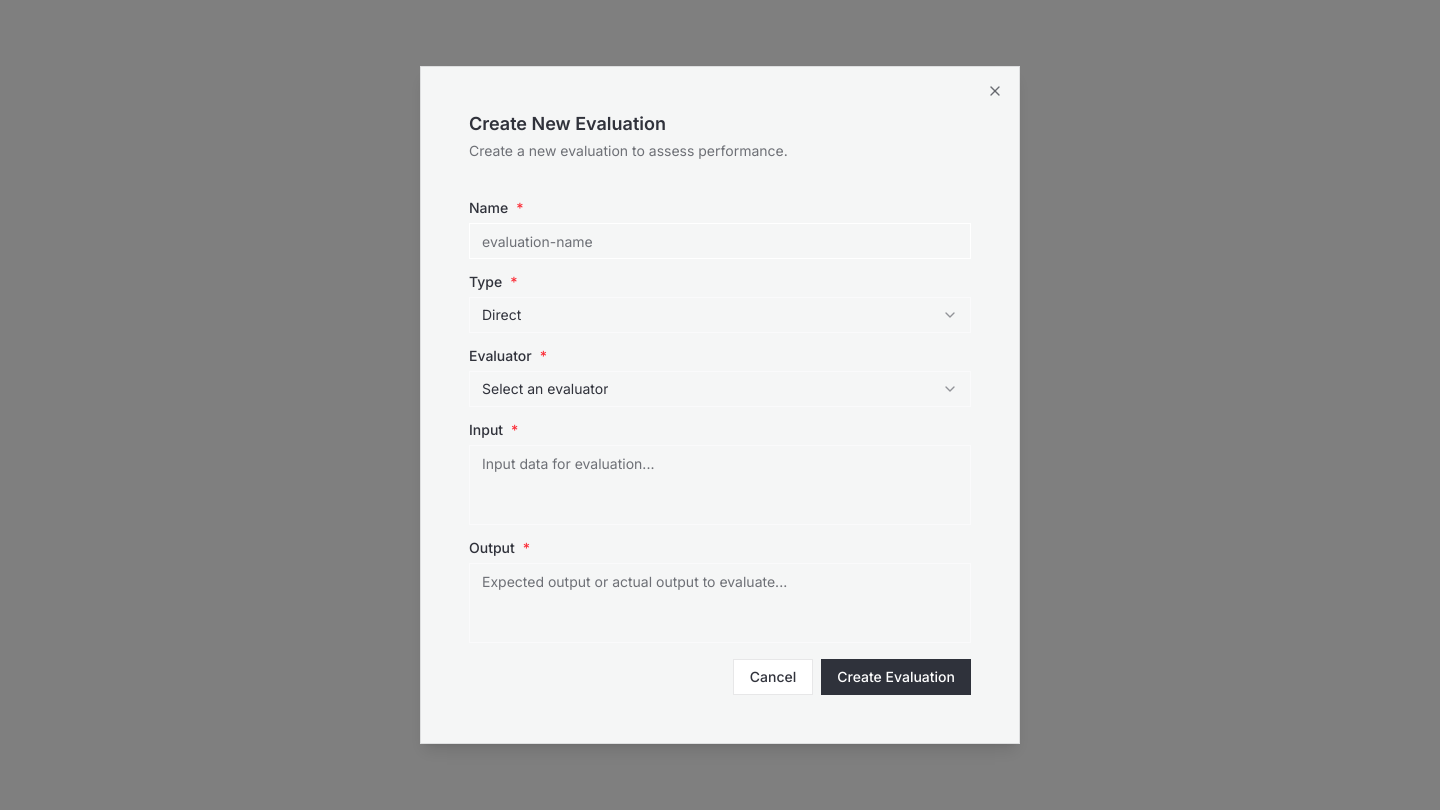
Scenario: EvaluationEditor › validation › should show error when evaluator is not selected
Type "valid-name" into the field with placeholder "evaluation-name" at (720, 241), box [469,223,971,259]
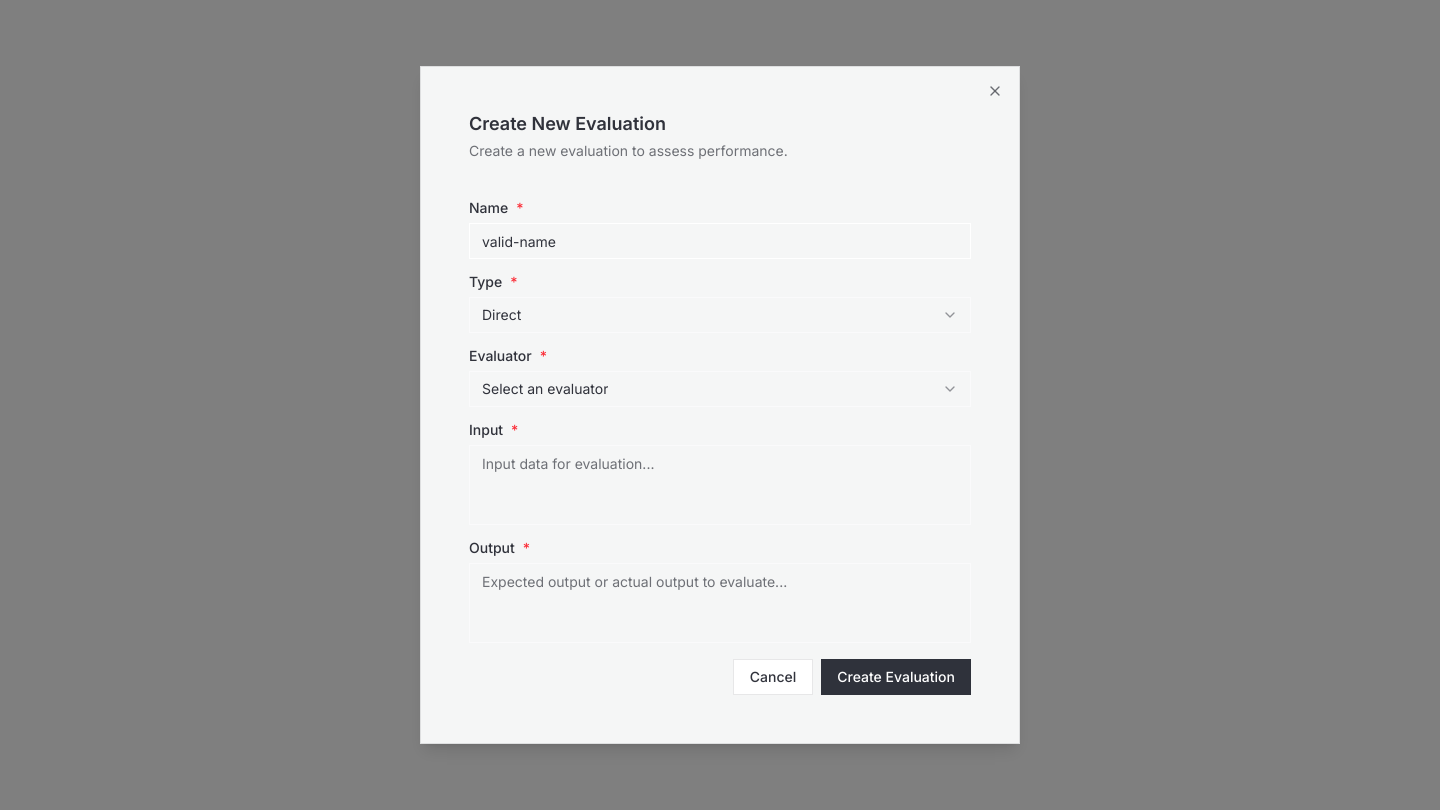
Click the button "Create Evaluation" at (896, 677), box [821,659,971,695]
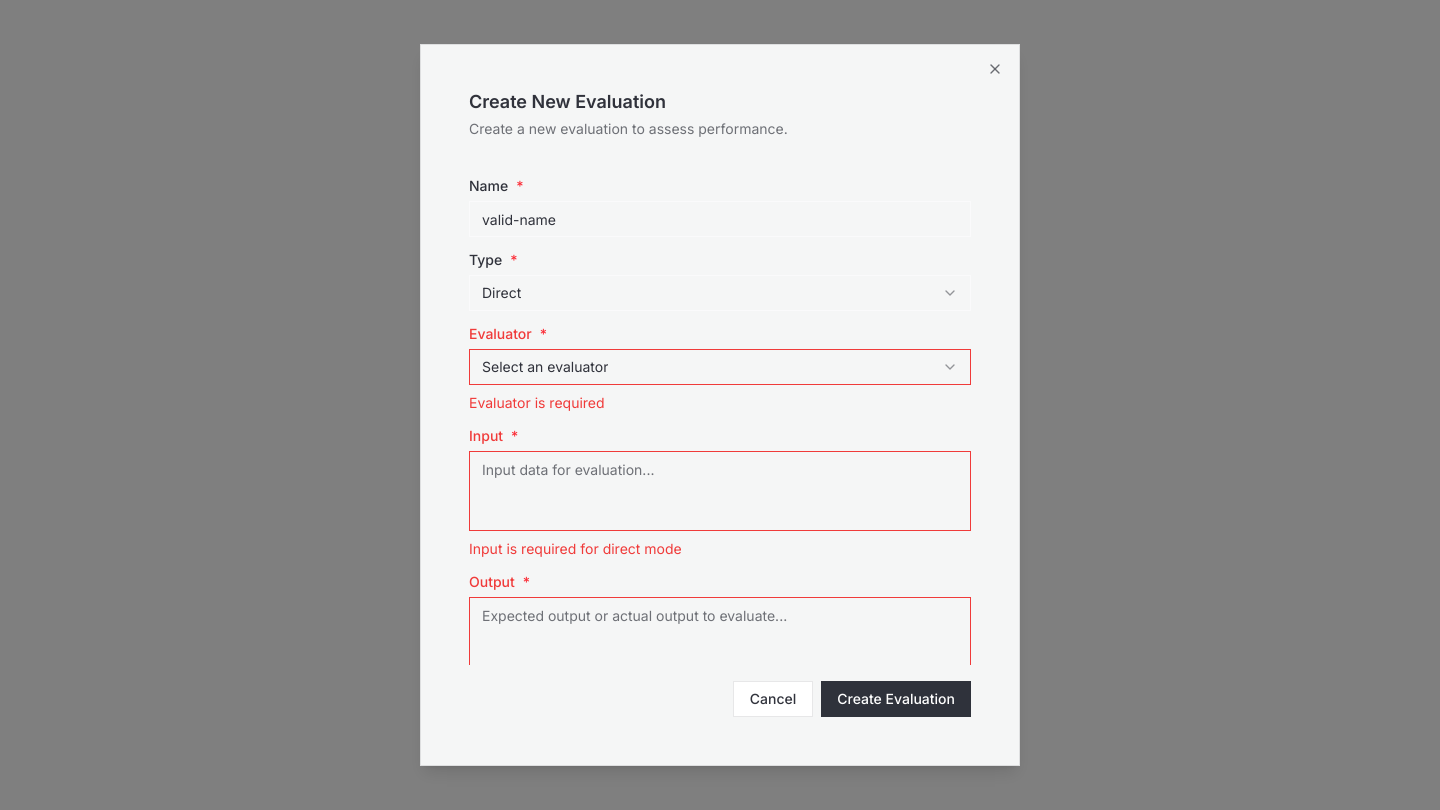
Result: the text "Evaluator is required" is shown at [469,394,605,411]
